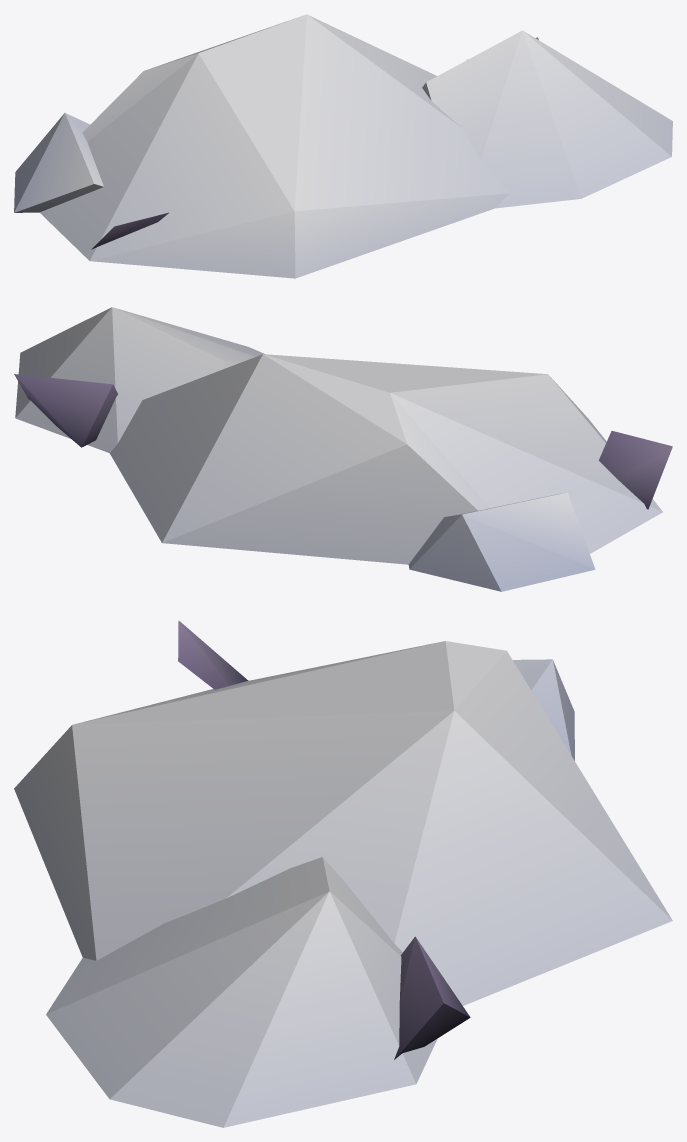
File: mtn_snow_drift-lod1.glb
3 views of the same model, one above another, from view 1: azimuth 30°, elevation 25°; view 2: azimuth 150°, elevation 25°; view 3: azimuth 270°, elevation 25° (orthographic). The views are drawn at different scales.
Visible parts, largest first — view 1: mtn_snow_drift; view 2: mtn_snow_drift; view 3: mtn_snow_drift.
Part boxes in pixels (x1,y1,x2,y2): mtn_snow_drift: (14, 14, 672, 278); mtn_snow_drift: (14, 307, 672, 591); mtn_snow_drift: (14, 620, 672, 1127).
Size of the model in its own units: 6.07 by 1.22 by 3.76.
